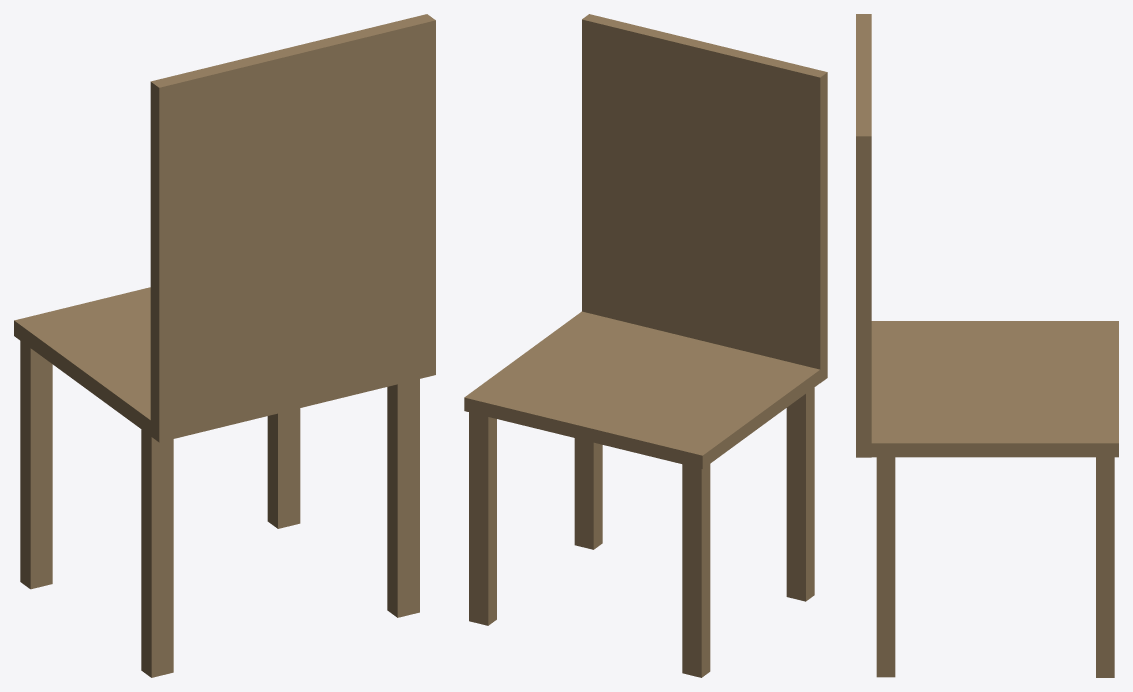
The model's file is Chair.fbx.
The picture shows the model from 3 angles, left to right: view 1: azimuth 30°, elevation 25°; view 2: azimuth 150°, elevation 25°; view 3: azimuth 270°, elevation 25°; orthographic projection. The views are drawn at different scales.
Visible parts, largest first — view 1: Cube.001, Cube, Cube.003, Cube.004, Cube.002, Cube.005; view 2: Cube.001, Cube, Cube.004, Cube.003, Cube.005, Cube.002; view 3: Cube, Cube.001, Cube.002, Cube.005.
Boxes of the visible parts, x1=… form: Cube.001: x1=150, y1=14, x2=435, y2=442; Cube: x1=14, y1=287, x2=150, y2=435; Cube.003: x1=141, y1=429, x2=173, y2=677; Cube.004: x1=20, y1=341, x2=52, y2=589; Cube.002: x1=387, y1=379, x2=419, y2=617; Cube.005: x1=267, y1=408, x2=300, y2=528; Cube.001: x1=582, y1=14, x2=827, y2=382; Cube: x1=464, y1=311, x2=820, y2=468; Cube.004: x1=682, y1=464, x2=710, y2=677; Cube.003: x1=786, y1=387, x2=814, y2=601; Cube.005: x1=469, y1=412, x2=496, y2=625; Cube.002: x1=574, y1=438, x2=602, y2=549; Cube: x1=871, y1=321, x2=1118, y2=457; Cube.001: x1=856, y1=14, x2=871, y2=457; Cube.002: x1=876, y1=457, x2=895, y2=677; Cube.005: x1=1096, y1=457, x2=1114, y2=677.
Bounding box in the file's own units: 200 × 414 × 182.
